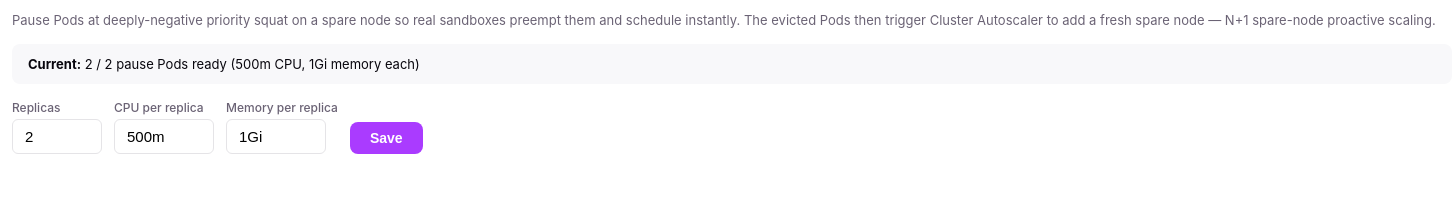
HeadroomEditor › shows an error message when saving fails
Click the button with test id "headroom-save": coordinates (386, 138) [350,122,423,154]
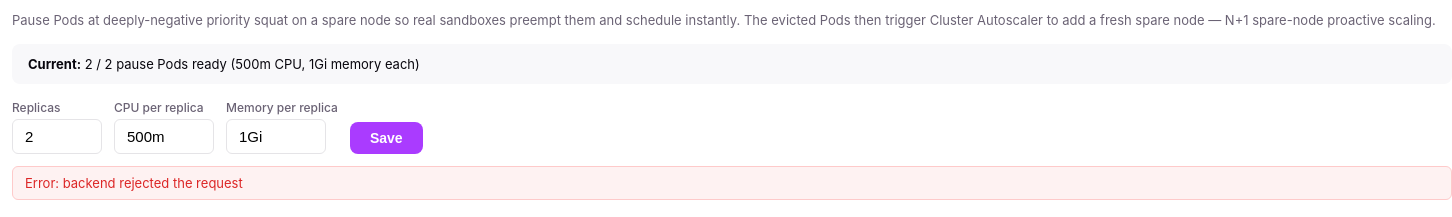
Expected: the text with test id "headroom-message" reads "Error: backend rejected the request", [25,175,243,191]
